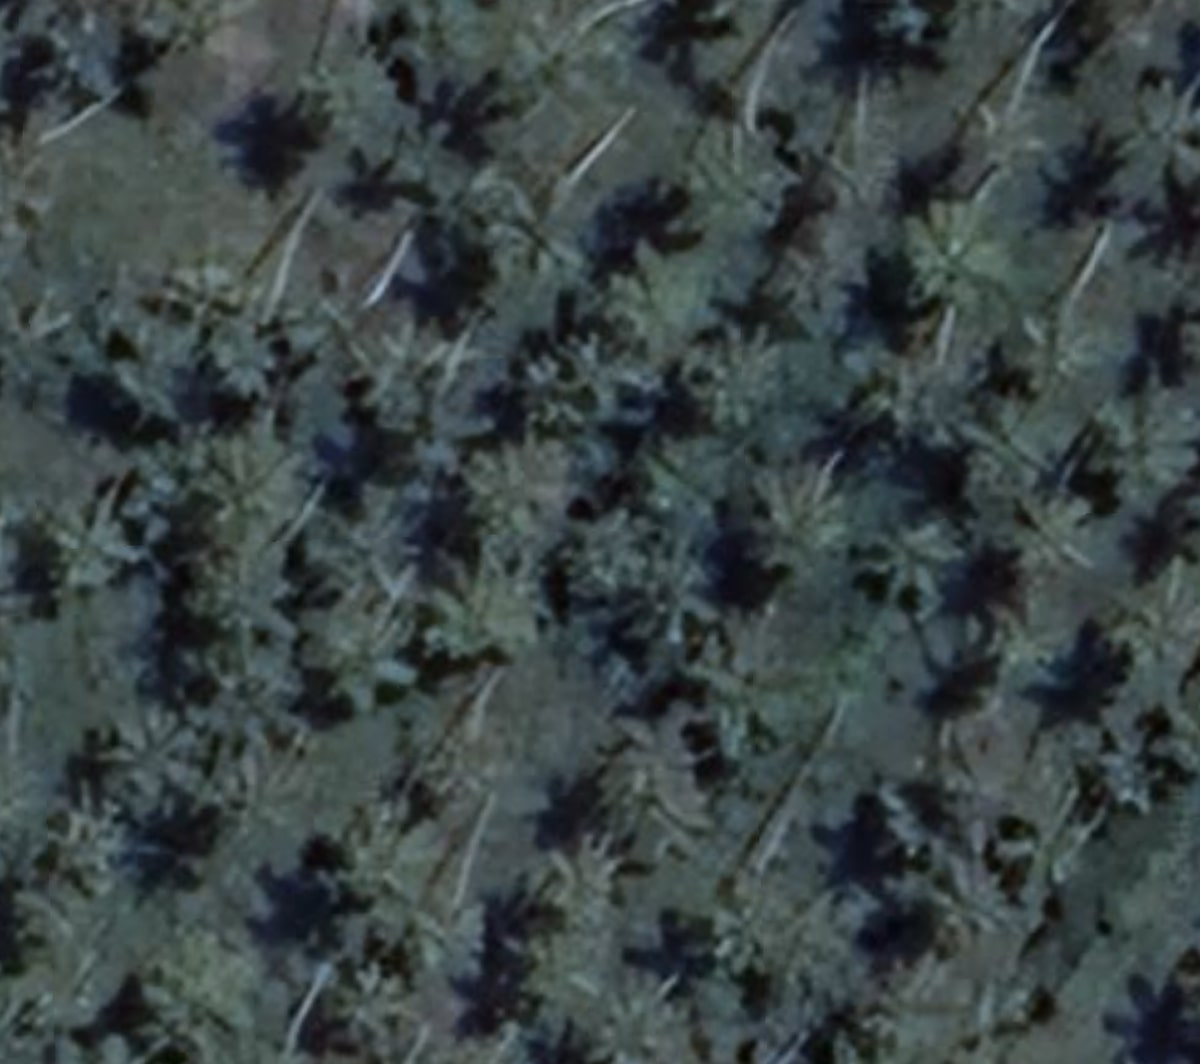coconut: (591, 529, 736, 662), (582, 708, 710, 849), (450, 175, 584, 298), (903, 846, 1033, 971), (725, 462, 852, 588), (670, 329, 798, 438), (906, 186, 1004, 312), (967, 601, 1066, 718), (857, 501, 946, 611), (1011, 304, 1098, 402), (589, 983, 674, 1064)
